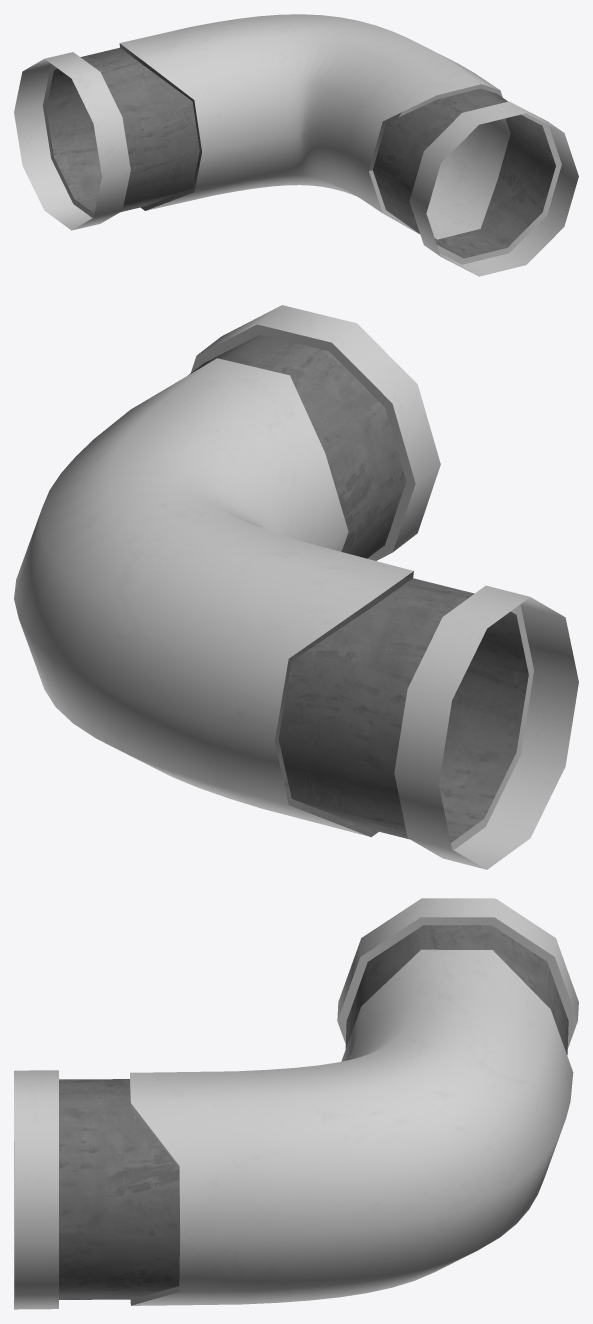
The model's file is Pipe L.fbx.
3 renders of one model, top to bottom at view 1: azimuth 30°, elevation 25°; view 2: azimuth 150°, elevation 25°; view 3: azimuth 270°, elevation 25°, orthographic. The views are drawn at different scales.
Parts seen in each view (by area): view 1: NurbsPath; view 2: NurbsPath; view 3: NurbsPath.
Part boxes in pixels (x1,y1,x2,y2): NurbsPath: (14, 14, 578, 276); NurbsPath: (14, 305, 578, 869); NurbsPath: (14, 898, 578, 1309).
Bounding box in the file's own units: 127 × 51.49 × 127.
Materials: 1 (1 with a texture image).
